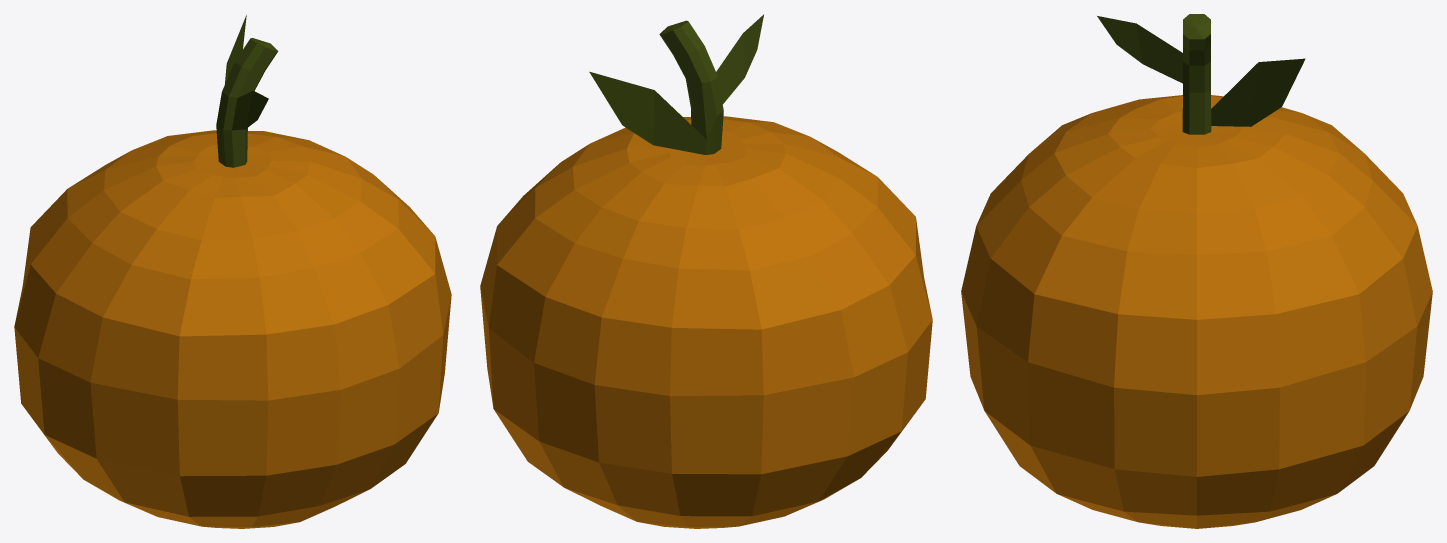
File: orange.fbx
The picture shows the model from 3 angles, left to right: view 1: azimuth 30°, elevation 25°; view 2: azimuth 150°, elevation 25°; view 3: azimuth 270°, elevation 25°; orthographic projection. The views are drawn at different scales.
Visible parts, largest first — view 1: orange; view 2: orange; view 3: orange.
Part boxes in pixels (bbox=[...]): orange: bbox=[14, 15, 451, 528]; orange: bbox=[480, 14, 932, 528]; orange: bbox=[961, 14, 1432, 528].
Size of the model in its own units: 37.28 by 41.73 by 35.84.
